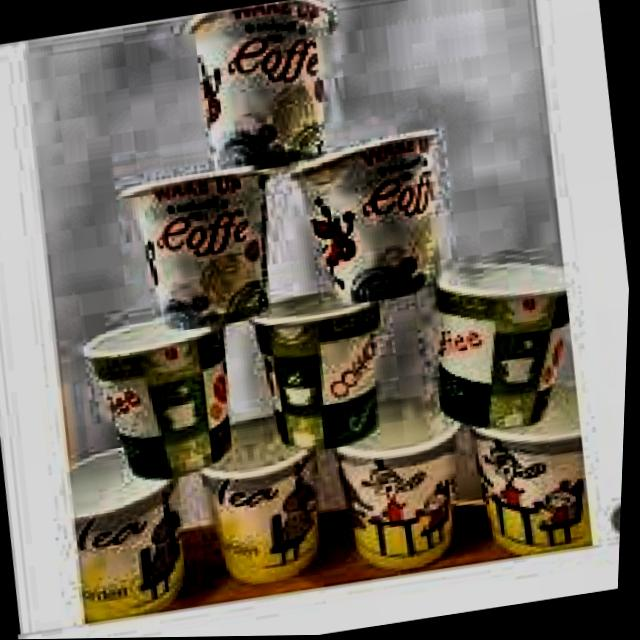Cup: (284, 124, 464, 311), (425, 237, 590, 441), (174, 401, 345, 589), (178, 0, 355, 180), (326, 381, 484, 580), (117, 160, 286, 346), (78, 309, 251, 487), (459, 374, 608, 562), (65, 439, 203, 625), (249, 283, 391, 460)
